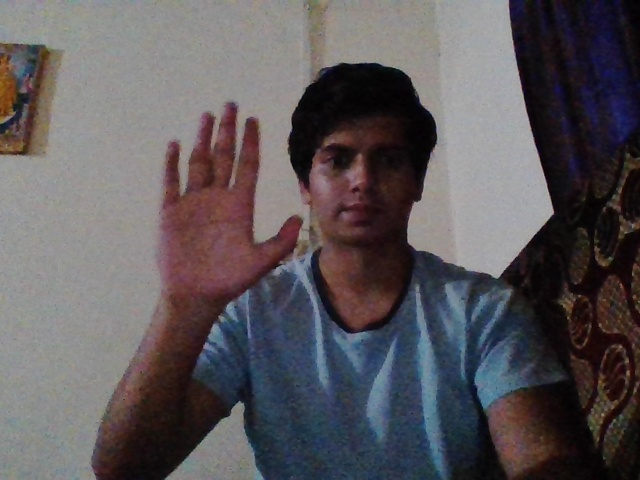hello: (154, 87, 315, 302)
